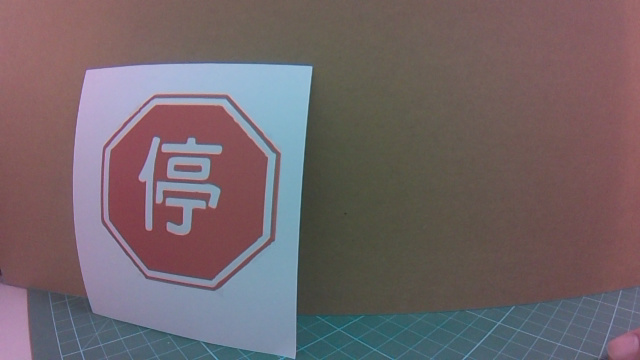stop: (91, 88, 277, 294)
